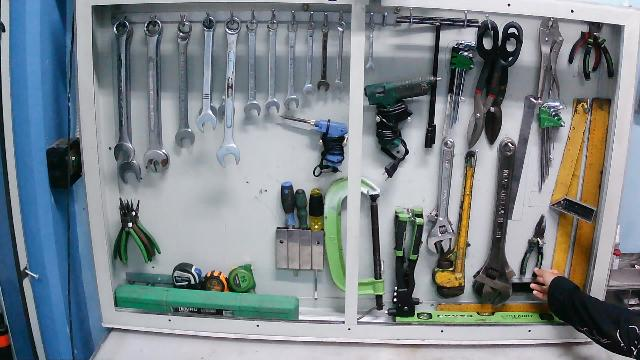tang_kombinasi: (518, 210, 548, 283)
